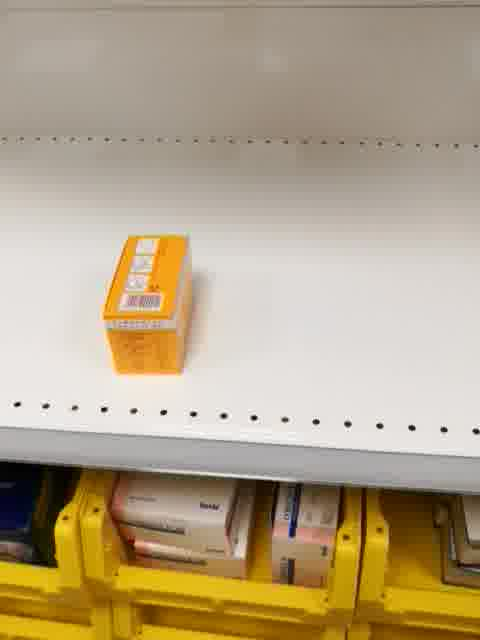jasminetea: (102, 233, 193, 377)
